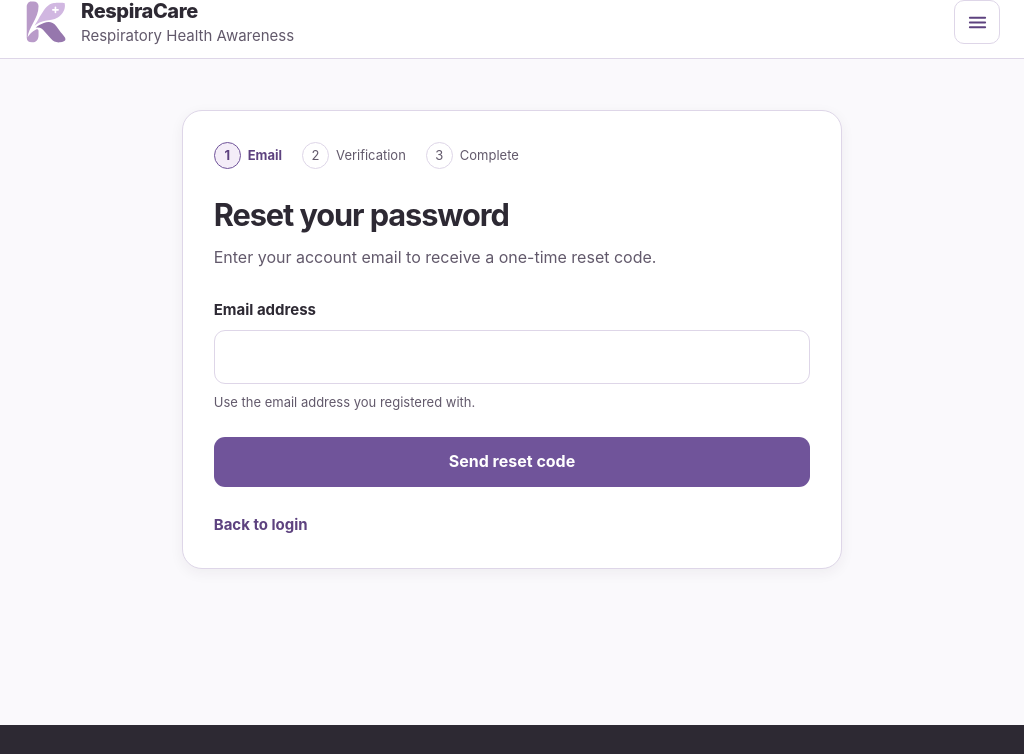
Test: forgotten-password recovery › disables confirmation when the displayed code expires
The width and height of the screenshot is (1024, 754).
Type "PERSON@EXAMPLE.COM" into the field labelled "Email address". click: (512, 357)
box: [214,330,810,384]
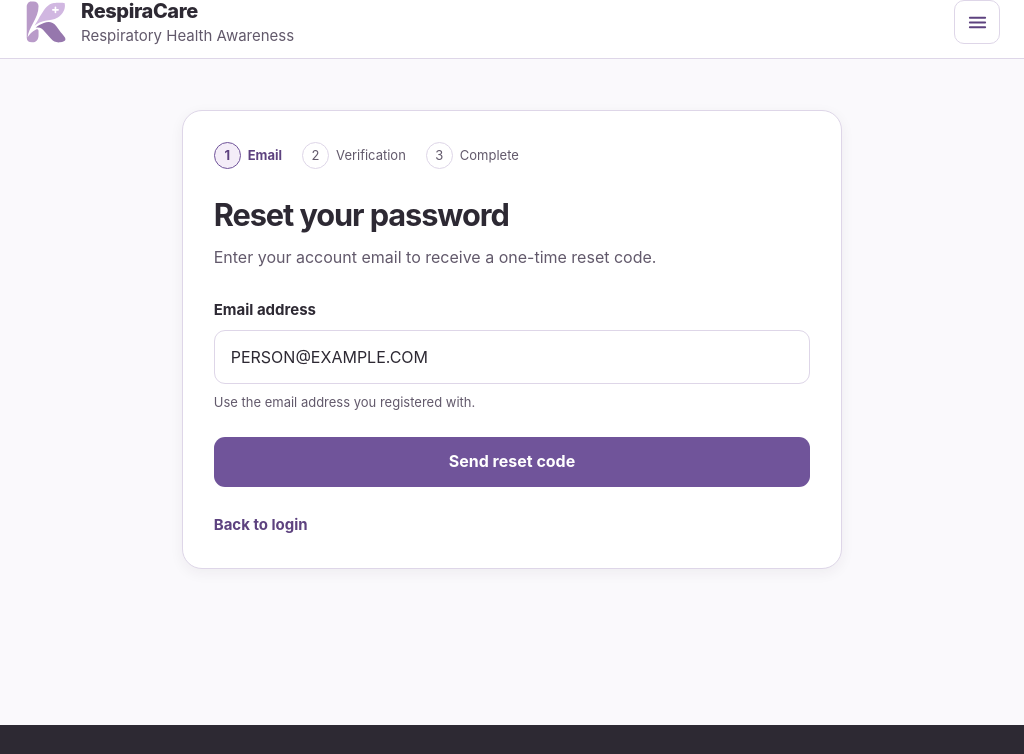
Click the button "Send reset code". click: (512, 462)
box: [214,437,810,487]
Wait 600000 ms
(page scrolled)
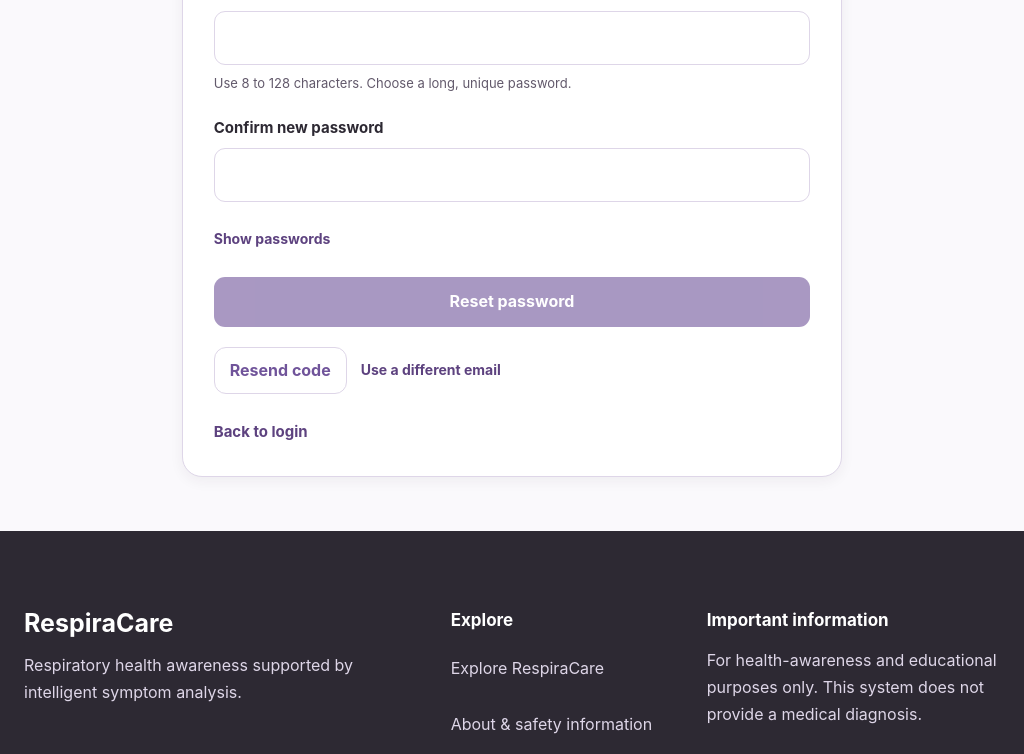
Result: the button "Reset password" is disabled at [214,277,810,327]
Result: the button "Resend code" is enabled at [214,347,347,394]
